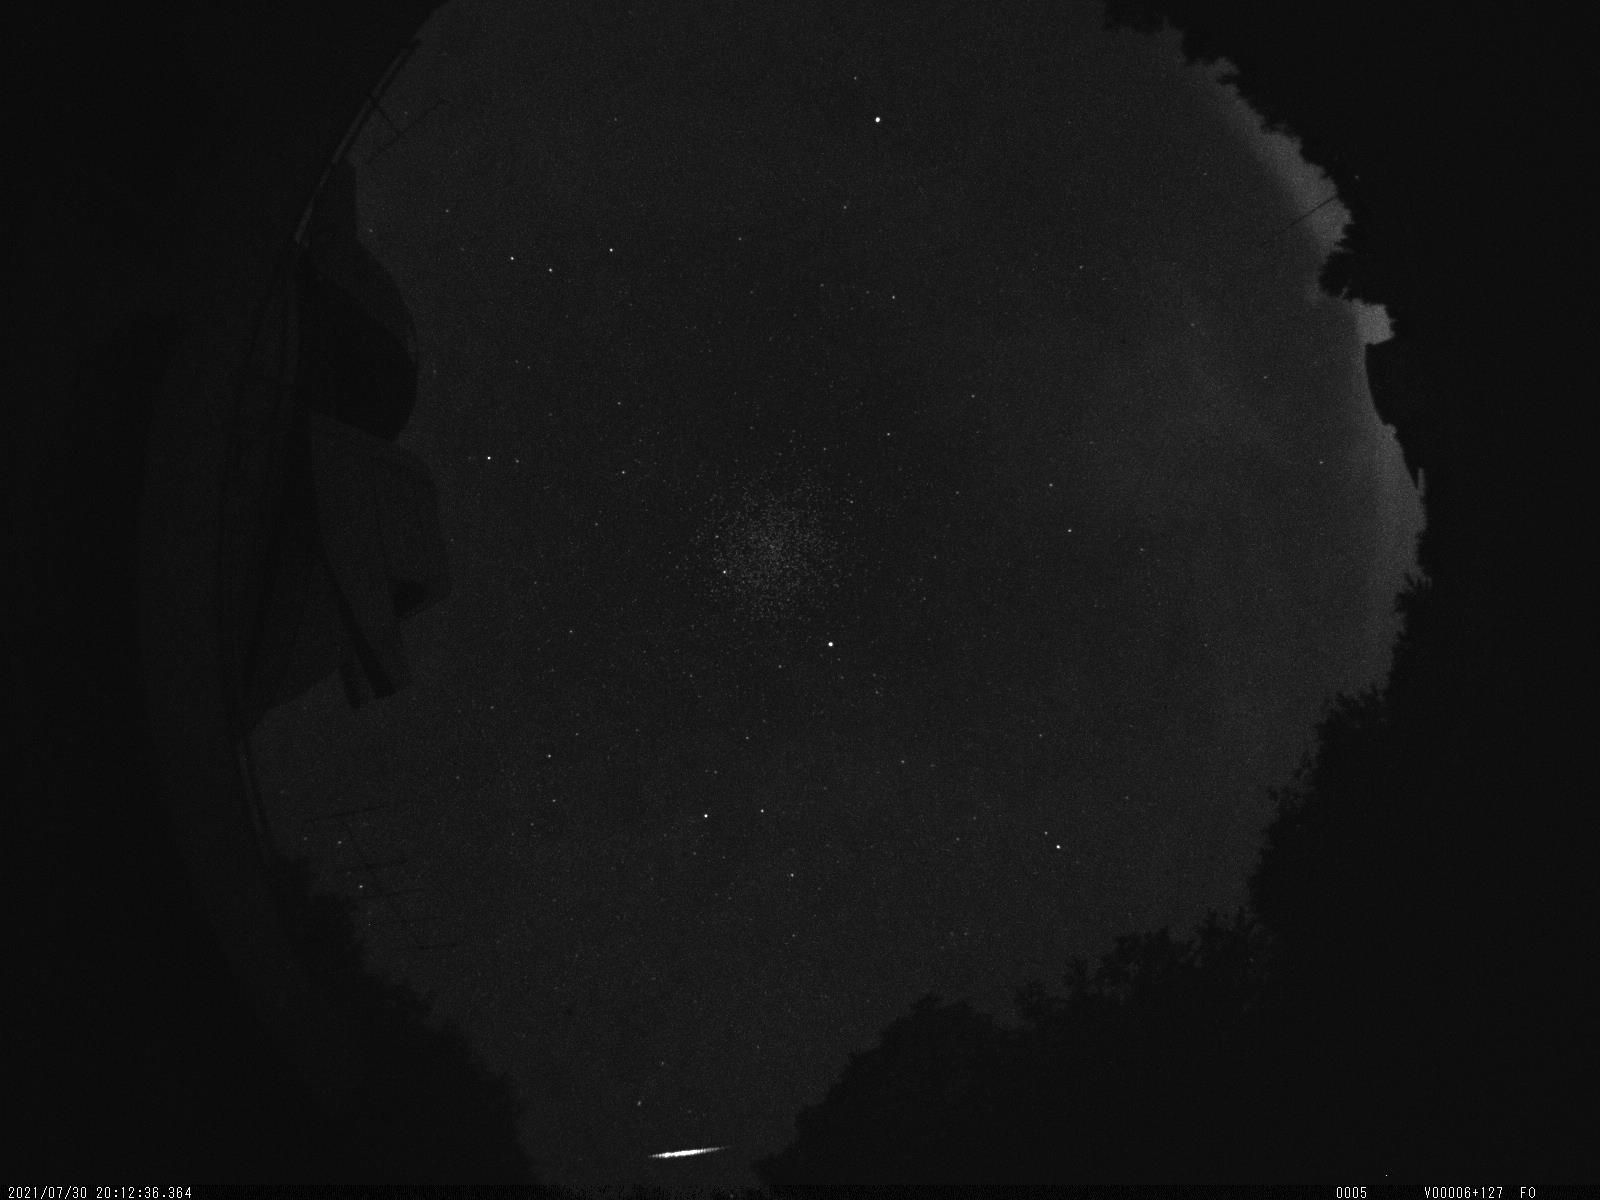Meteor: (639, 1136, 737, 1168)
